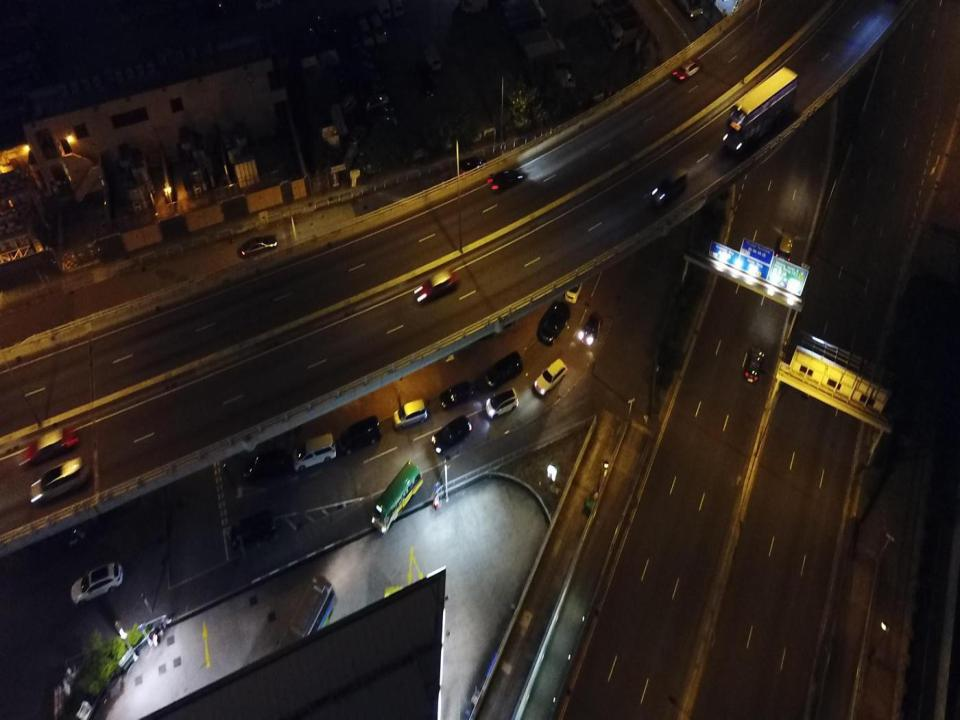bus: (267, 578, 335, 708), (723, 65, 800, 157), (372, 458, 423, 536)
car: (31, 457, 90, 503), (23, 425, 82, 464), (68, 563, 122, 605), (432, 412, 472, 456), (414, 268, 460, 302), (539, 298, 568, 344), (533, 357, 568, 395), (486, 351, 522, 386), (485, 167, 525, 194), (236, 235, 278, 259), (486, 390, 519, 420), (394, 400, 430, 427), (578, 309, 603, 346), (741, 349, 765, 386), (439, 382, 474, 407), (673, 57, 702, 83), (775, 231, 793, 268), (418, 68, 437, 100), (456, 155, 489, 173), (370, 114, 398, 133), (566, 272, 582, 304), (363, 92, 389, 109), (367, 105, 394, 118)
truck: (502, 6, 548, 36), (522, 38, 566, 68), (608, 22, 647, 51), (536, 69, 576, 95), (515, 28, 555, 51), (598, 8, 638, 31), (535, 54, 572, 78), (590, 1, 635, 19)
van: (228, 512, 277, 548), (294, 432, 338, 472), (650, 168, 689, 207), (341, 416, 379, 453), (244, 447, 287, 477), (421, 42, 442, 72), (370, 13, 387, 44), (356, 18, 374, 47), (347, 122, 366, 149), (460, 0, 489, 15), (338, 93, 356, 114), (376, 0, 392, 19), (390, 0, 404, 20)
